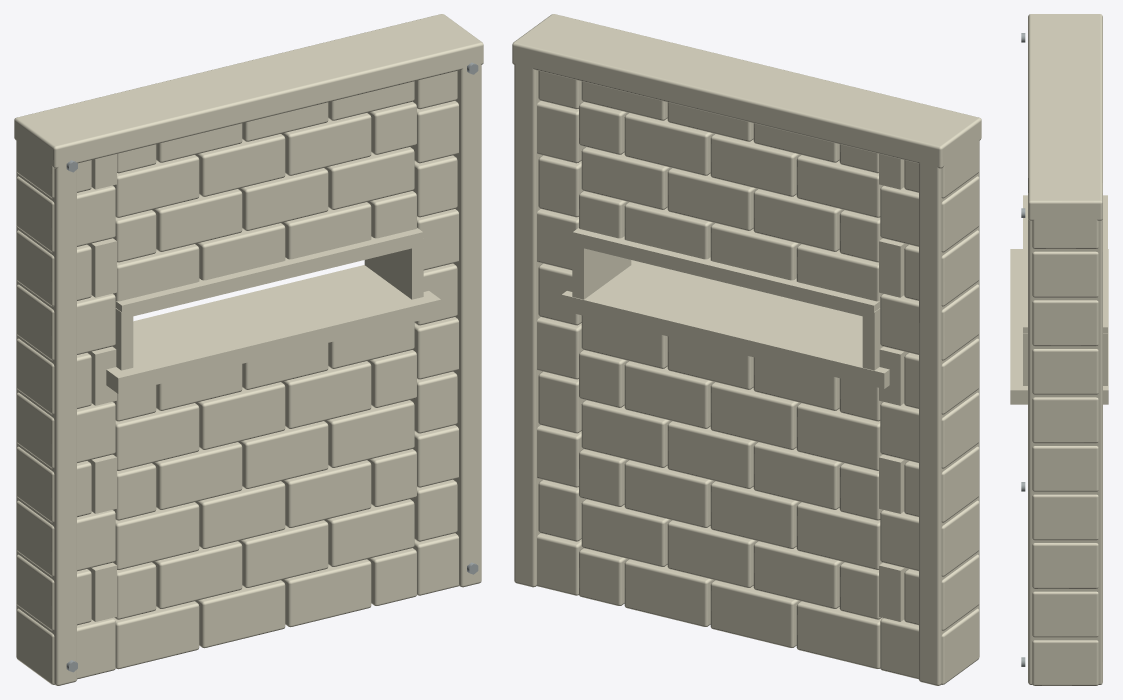
The model's file is bunker-shelter-construction-shelter-cable-wall-a536602a__23288.glb.
3 views of the same model, side by side, from view 1: azimuth 30°, elevation 25°; view 2: azimuth 150°, elevation 25°; view 3: azimuth 270°, elevation 25° (orthographic). The views are drawn at different scales.
Visible parts, largest first — view 1: shelter-cable-wall; view 2: shelter-cable-wall; view 3: shelter-cable-wall.
Part boxes in pixels (left/top/right/bottom): shelter-cable-wall: left=14, top=14, right=483, bottom=685; shelter-cable-wall: left=512, top=14, right=981, bottom=685; shelter-cable-wall: left=1010, top=14, right=1108, bottom=685.
Bounding box in the file's own units: 2 × 2.4 × 0.4401.
